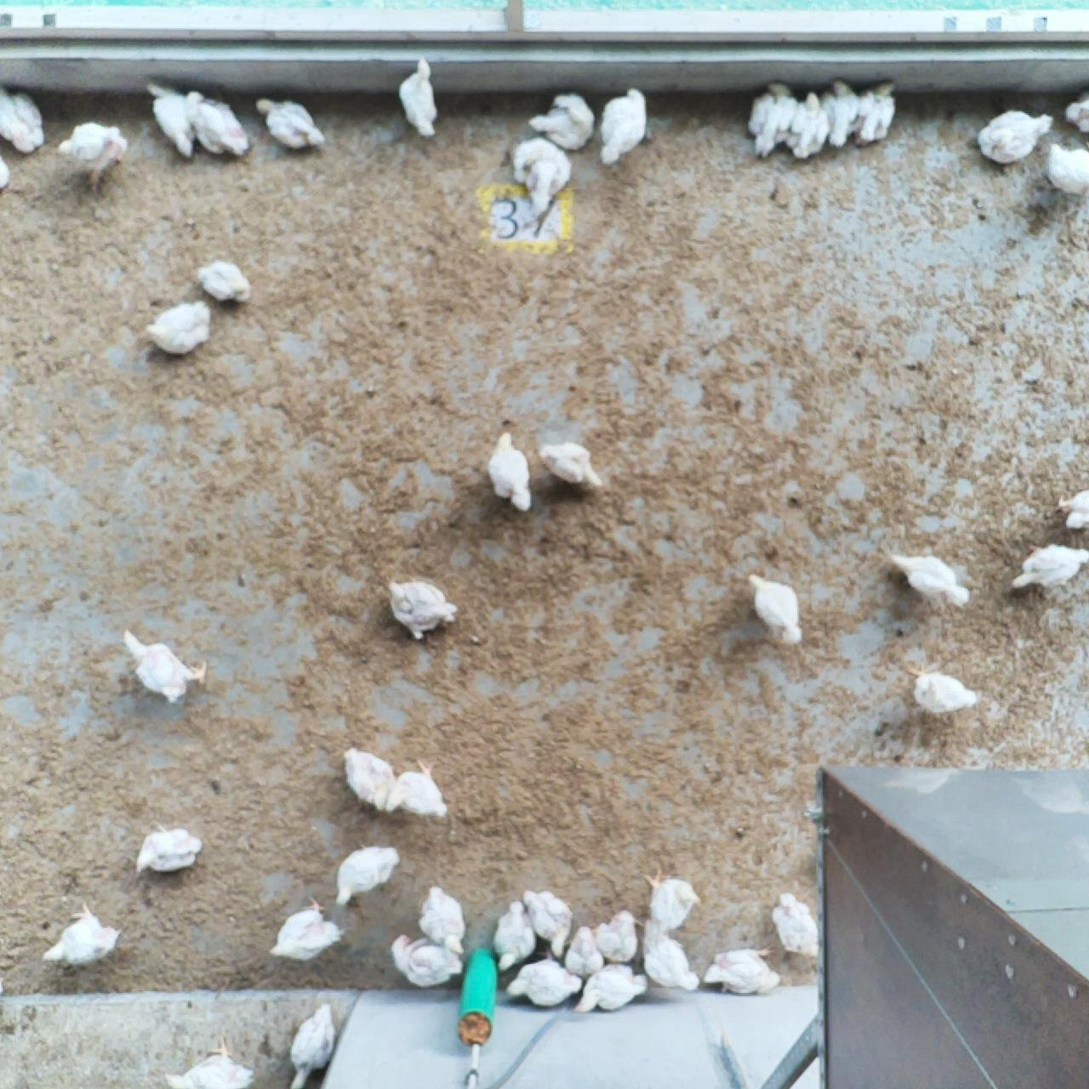chicken: (120, 628, 208, 702), (283, 999, 342, 1089), (43, 900, 121, 968), (56, 122, 128, 194), (268, 896, 345, 960), (165, 1038, 261, 1089), (140, 74, 199, 154), (512, 139, 573, 214), (183, 88, 249, 157), (389, 580, 457, 643), (391, 752, 449, 825), (747, 573, 804, 647), (638, 923, 700, 991), (704, 945, 782, 999), (254, 91, 323, 151), (602, 86, 650, 171), (889, 553, 968, 603), (389, 936, 462, 990), (900, 661, 977, 712), (527, 94, 593, 152), (576, 962, 649, 1014), (505, 957, 584, 1005), (335, 848, 398, 907), (148, 301, 213, 358), (978, 109, 1046, 163), (490, 432, 536, 511), (342, 748, 396, 815), (770, 890, 820, 962), (396, 56, 439, 137), (1013, 540, 1089, 585), (521, 888, 572, 955), (643, 869, 697, 931), (133, 822, 200, 871), (418, 887, 466, 953), (749, 83, 791, 157), (537, 444, 606, 489), (1, 86, 43, 152), (591, 909, 643, 961), (493, 901, 533, 968), (198, 258, 253, 304), (1047, 140, 1089, 197), (562, 925, 602, 981), (860, 76, 893, 143), (824, 77, 852, 146), (790, 92, 818, 155), (1065, 84, 1089, 143), (1058, 487, 1088, 532), (1, 151, 6, 193)
